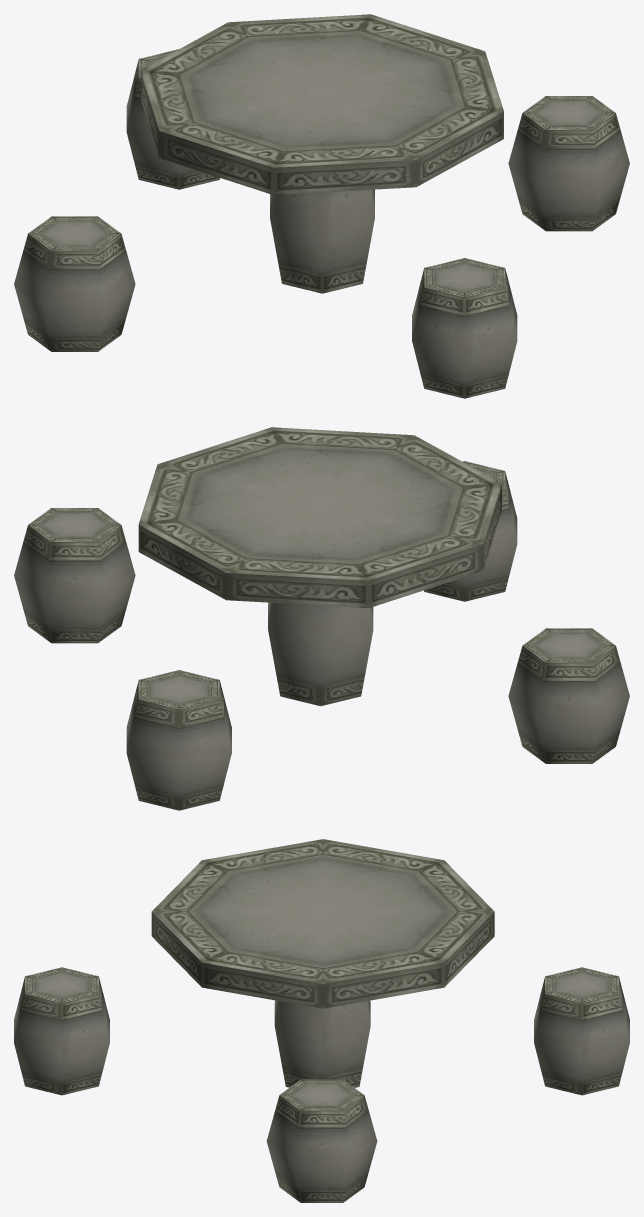
File: szc_object_shizhuo.FBX
3 renders of one model, top to bottom at view 1: azimuth 30°, elevation 25°; view 2: azimuth 150°, elevation 25°; view 3: azimuth 270°, elevation 25°, orthographic. The views are drawn at different scales.
Visible parts, largest first — view 1: szc_object_shizhuo; view 2: szc_object_shizhuo; view 3: szc_object_shizhuo.
Part boxes in pixels (<box>): szc_object_shizhuo: <box>14,14,629,398</box>; szc_object_shizhuo: <box>14,427,629,810</box>; szc_object_shizhuo: <box>14,839,629,1202</box>.
Bounding box in the file's own units: 206 × 61.37 × 206.
